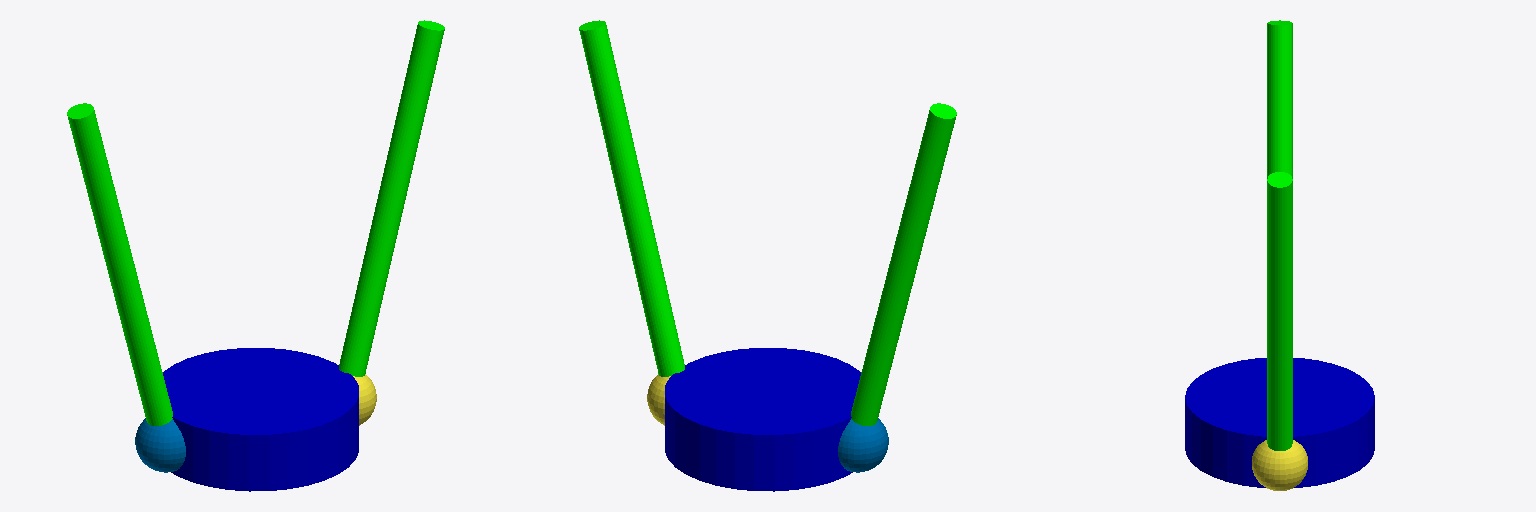
robot.urdf — gripper_2f_1j:
<?xml version='1.0' encoding='UTF-8'?>
<robot name="gripper_2f_1j">
  <link name="palm">
    <inertial>
      <origin xyz="0.0 0.0 0.0" rpy="0.0 -0.0 0.0"/>
      <mass value="1.0"/>
      <inertia ixx="1.0" ixy="0.0" ixz="0.0" iyy="1.0" iyz="0.0" izz="1.0"/>
    </inertial>
    <visual>
      <geometry>
        <cylinder radius="0.05" length="0.03"/>
      </geometry>
      <material name="blue"/>
      <origin xyz="0.0 0.0 0.0" rpy="0.0 -0.0 0.0"/>
    </visual>
    <collision>
      <geometry>
        <cylinder radius="0.05" length="0.03"/>
      </geometry>
      <origin xyz="0.0 0.0 0.0" rpy="0.0 0.0 0.0"/>
    </collision>
  </link>
  <link name="f11">
    <inertial>
      <origin xyz="0.0 0.0 0.0" rpy="0.0 -0.0 0.0"/>
      <mass value="1.0"/>
      <inertia ixx="1.0" ixy="0.0" ixz="0.0" iyy="1.0" iyz="0.0" izz="1.0"/>
    </inertial>
    <visual>
      <geometry>
        <cylinder radius="0.006649027267100594" length="0.19284122012558533"/>
      </geometry>
      <material name="green"/>
      <origin xyz="0.0 0.0 0.09642061006279266" rpy="0.0 -0.0 0.0"/>
    </visual>
    <collision>
      <geometry>
        <cylinder radius="0.006649027267100594" length="0.19284122012558533"/>
      </geometry>
      <origin xyz="0.0 0.0 0.05" rpy="0.0 0.0 0.0"/>
    </collision>
  </link>
  <link name="f21">
    <inertial>
      <origin xyz="0.0 0.0 0.0" rpy="0.0 -0.0 0.0"/>
      <mass value="1.0"/>
      <inertia ixx="1.0" ixy="0.0" ixz="0.0" iyy="1.0" iyz="0.0" izz="1.0"/>
    </inertial>
    <visual>
      <geometry>
        <cylinder radius="0.006649027267100594" length="0.19284122012558533"/>
      </geometry>
      <material name="green"/>
      <origin xyz="0.0 0.0 0.09642061006279266" rpy="0.0 -0.0 0.0"/>
    </visual>
    <collision>
      <geometry>
        <cylinder radius="0.006649027267100594" length="0.19284122012558533"/>
      </geometry>
      <origin xyz="0.0 0.0 0.05" rpy="0.0 0.0 0.0"/>
    </collision>
  </link>
  <link name="f11_base">
    <inertial>
      <origin xyz="0.0 0.0 0.0" rpy="0.0 -0.0 0.0"/>
      <mass value="1.0"/>
      <inertia ixx="1.0" ixy="0.0" ixz="0.0" iyy="1.0" iyz="0.0" izz="1.0"/>
    </inertial>
    <visual>
      <geometry>
        <sphere radius="0.015"/>
      </geometry>
      <origin xyz="0.0 0.0 0.0" rpy="0.0 -0.0 0.0"/>
    </visual>
  </link>
  <link name="f21_base">
    <inertial>
      <origin xyz="0.0 0.0 0.0" rpy="0.0 -0.0 0.0"/>
      <mass value="1.0"/>
      <inertia ixx="1.0" ixy="0.0" ixz="0.0" iyy="1.0" iyz="0.0" izz="1.0"/>
    </inertial>
    <visual>
      <geometry>
        <sphere radius="0.015"/>
      </geometry>
      <origin xyz="0.0 0.0 0.0" rpy="0.0 -0.0 0.0"/>
    </visual>
  </link>
  <joint name="f11_joint" type="revolute">
    <dynamics damping="100.0" friction="1.0"/>
    <limit effort="30.0" velocity="2.0" lower="-0.6" upper="0.25"/>
    <parent link="f11_base"/>
    <child link="f11"/>
    <axis xyz="0. 1. 0."/>
    <origin xyz="0.0 0.0 0.0" rpy="0.0 0.25 0.0"/>
  </joint>
  <joint name="f21_joint" type="revolute">
    <dynamics damping="100.0" friction="1.0"/>
    <limit effort="30.0" velocity="2.0" lower="-0.6" upper="0.25"/>
    <parent link="f21_base"/>
    <child link="f21"/>
    <axis xyz=" 0. -1.  0."/>
    <origin xyz="0.0 0.0 0.0" rpy="0.0 -0.25 0.0"/>
  </joint>
  <joint name="f11_base_joint" type="fixed">
    <parent link="palm"/>
    <child link="f11_base"/>
    <axis xyz="1. 0. 0."/>
    <origin xyz="0.05 0.0 0.0" rpy="0.0 0.0 0.0"/>
  </joint>
  <joint name="f21_base_joint" type="fixed">
    <parent link="palm"/>
    <child link="f21_base"/>
    <axis xyz="1. 0. 0."/>
    <origin xyz="-0.05 -0.0 0.0" rpy="0.0 0.0 0.0"/>
  </joint>
  <material name="blue">
    <color rgba="0.  0.  0.8 1. "/>
  </material>
  <material name="green">
    <color rgba="0. 1. 0. 1."/>
  </material>
</robot>

--- Render facts (derived) ---
3 views of the same robot in one strip: view 1: azimuth 30°, elevation 25°; view 2: azimuth 150°, elevation 25°; view 3: azimuth 270°, elevation 25° (orthographic).
Model gripper_2f_1j with 5 links and 4 joints (2 revolute, 2 fixed), rooted at palm, posed all joints at 0.
Visible links, largest first — view 1: palm, f11, f21, f21_base, f11_base; view 2: palm, f11, f21, f21_base, f11_base; view 3: palm, f11, f21, f11_base.
Boxes of the visible links, <box> form: palm: <box>163,348,358,491</box>; f11: <box>339,20,444,376</box>; f21: <box>67,103,172,425</box>; f21_base: <box>135,418,185,472</box>; f11_base: <box>353,374,376,425</box>; palm: <box>665,348,860,491</box>; f11: <box>579,20,684,376</box>; f21: <box>851,103,956,425</box>; f21_base: <box>838,418,888,472</box>; f11_base: <box>647,374,670,425</box>; palm: <box>1185,358,1374,487</box>; f11: <box>1267,172,1292,450</box>; f21: <box>1267,20,1292,178</box>; f11_base: <box>1252,440,1307,490</box>.
Bounding box of the posed robot: 0.2083 × 0.1 × 0.2035 m (x, y, z).
Geometry: primitives only (box / cylinder / sphere), no mesh files.